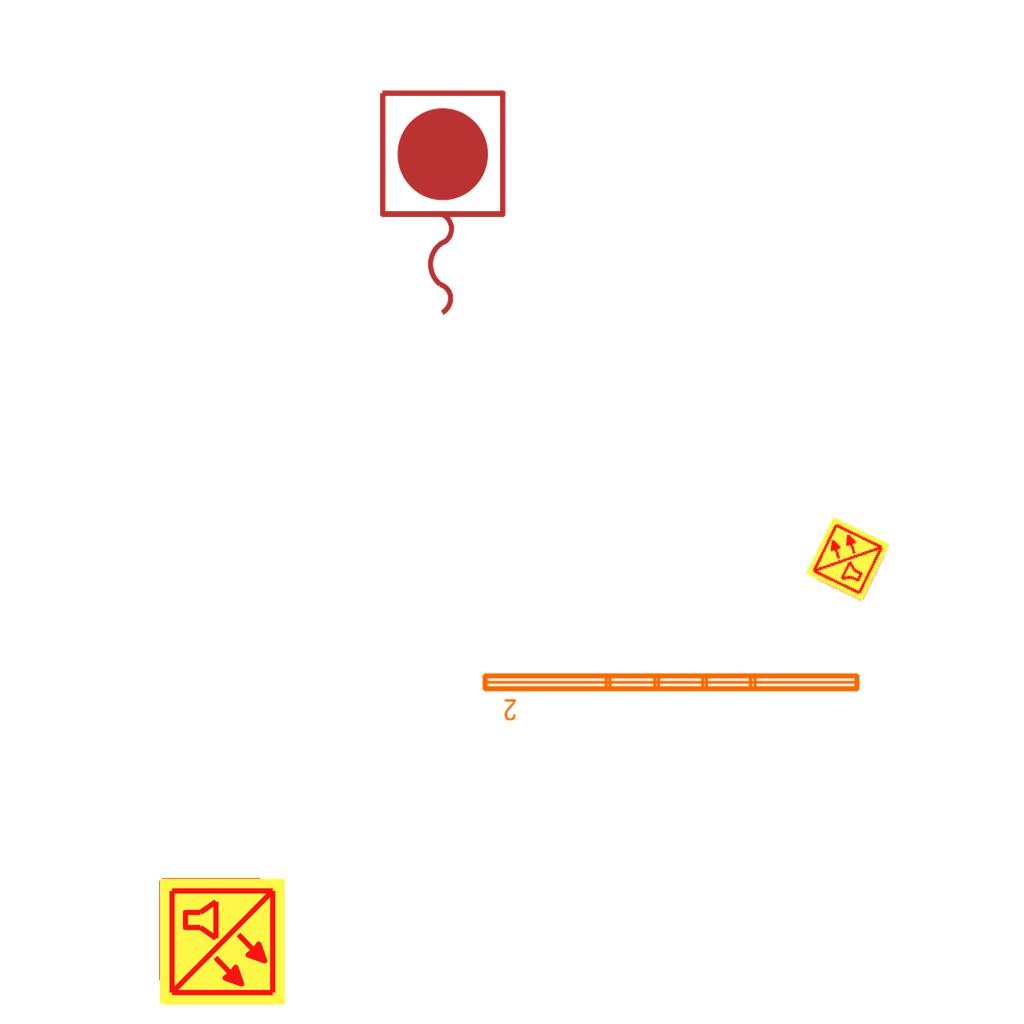Ambulanz_Pendelleuchte_LED: (478, 667, 865, 723)
OKW_Multisensormelder_(Kombination_optischer_Rauch-Kahlenmonoxid_Waerme-Melder): (156, 876, 288, 1008), (803, 514, 893, 604)
Zugtaster: (369, 82, 513, 326)
